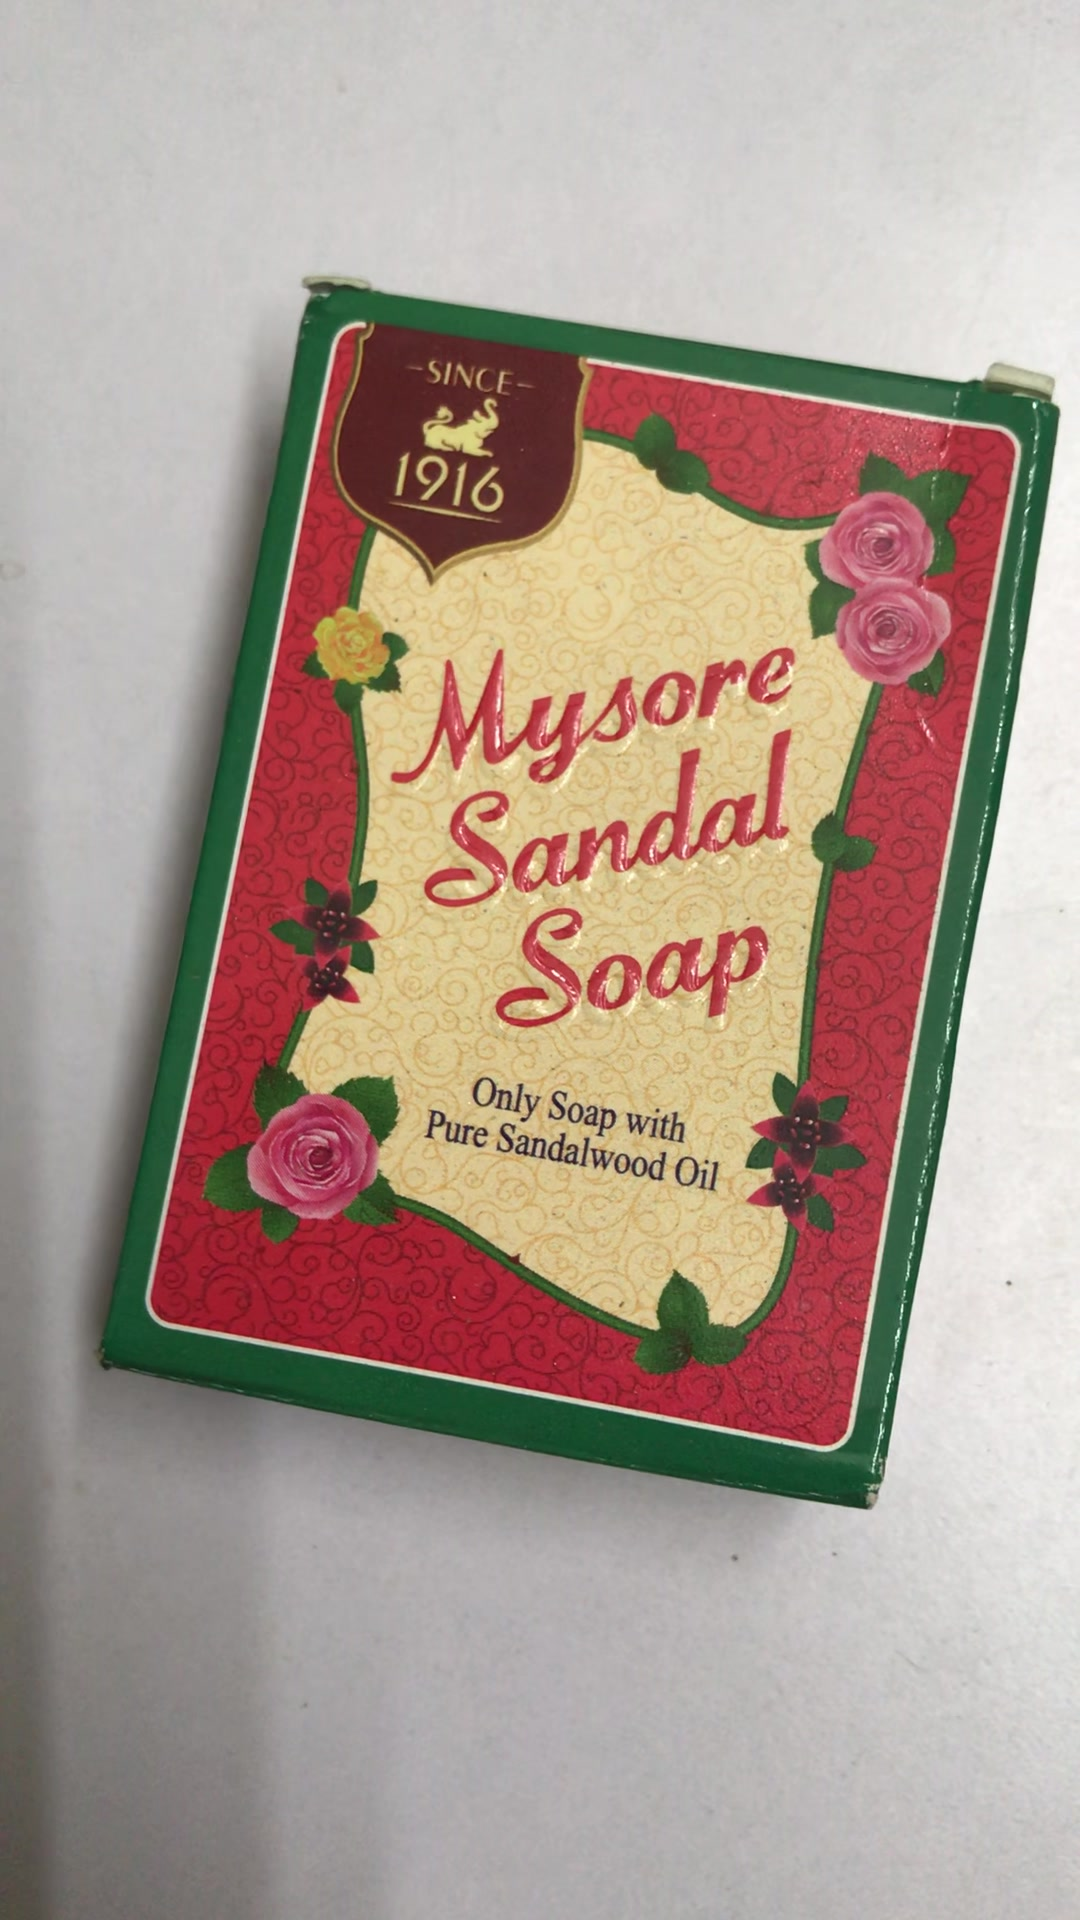mysore sandal soap: (94, 286, 1065, 1506)
